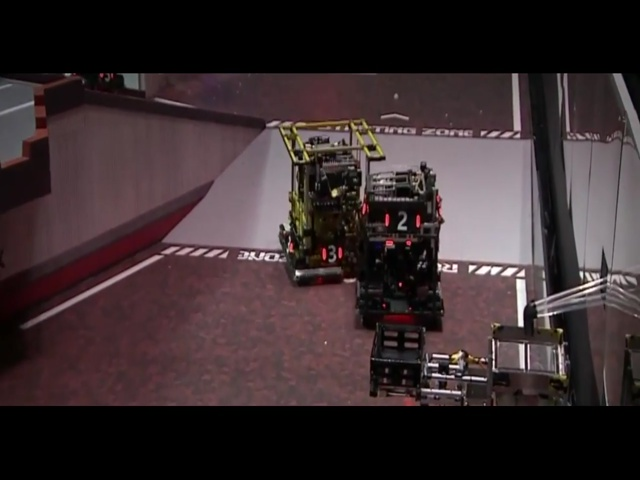plate: (113, 361, 156, 398), (185, 352, 214, 383), (309, 172, 338, 195), (474, 321, 497, 349), (416, 192, 440, 215), (452, 147, 476, 170), (395, 192, 415, 219), (538, 334, 560, 358), (272, 176, 298, 196), (249, 213, 268, 233)
